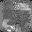people: (2, 19, 13, 30)
